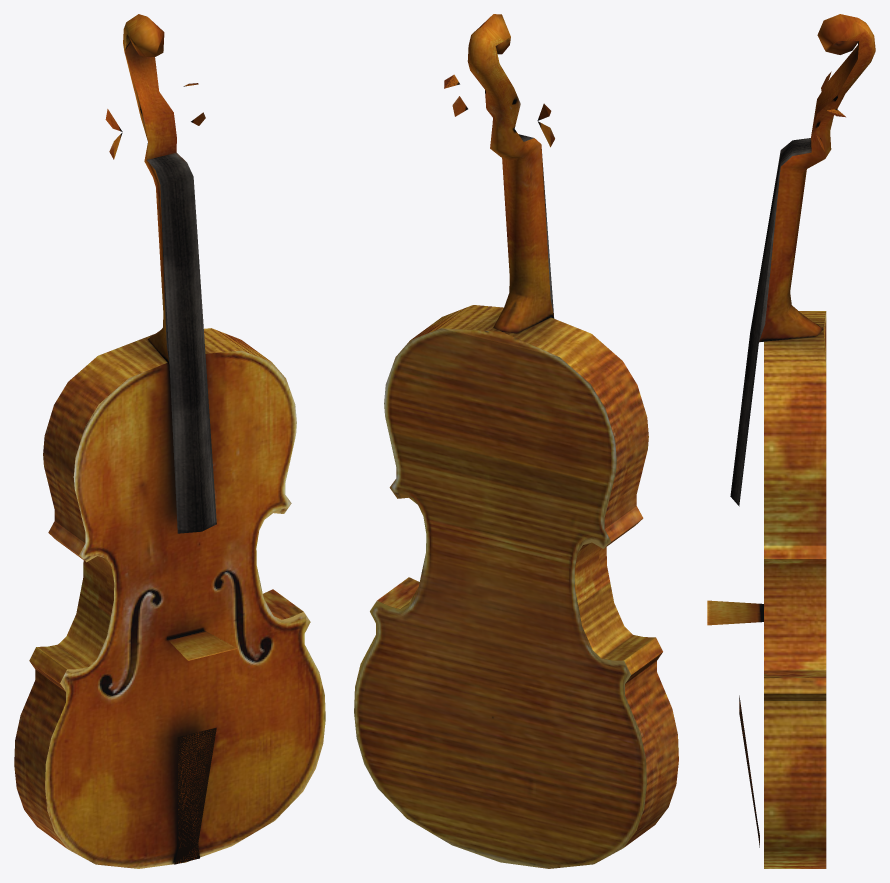
Rendered from M_Home_Garden_Violin.fbx.
3 views of the same model, side by side, from view 1: azimuth 30°, elevation 25°; view 2: azimuth 150°, elevation 25°; view 3: azimuth 270°, elevation 25° (orthographic). The views are drawn at different scales.
Visible parts, largest first — view 1: M_Home_Garden_Violin; view 2: M_Home_Garden_Violin; view 3: M_Home_Garden_Violin.
Boxes of the visible parts, x1,y1,x2,y2 form: M_Home_Garden_Violin: (14,14,325,868); M_Home_Garden_Violin: (354,14,678,868); M_Home_Garden_Violin: (707,14,875,868).
Size of the model in its own units: 32.51 by 90.53 by 16.66.
